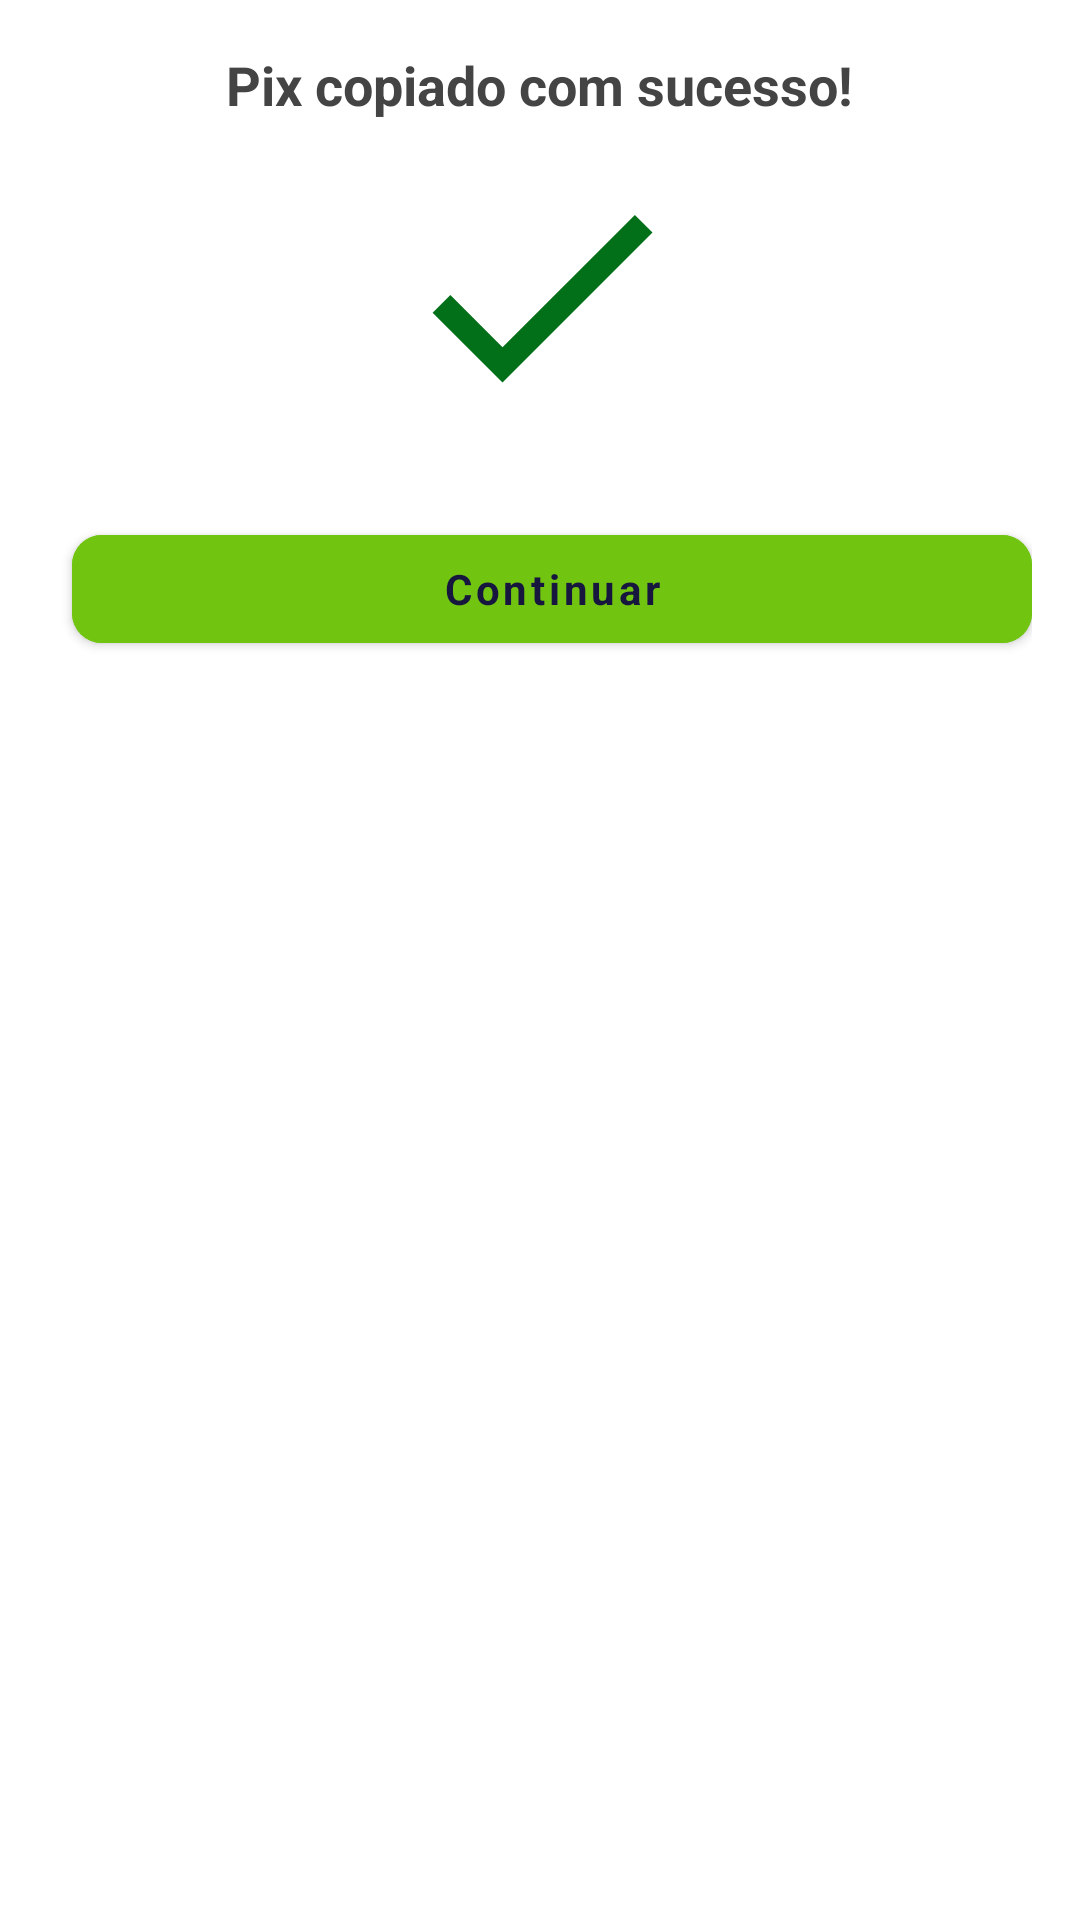

Screen size 1080 × 1920. Icon name, then its box in pixels as bbox=[x1, y1, x2, y2]:
check: bbox=[432, 215, 653, 383]
